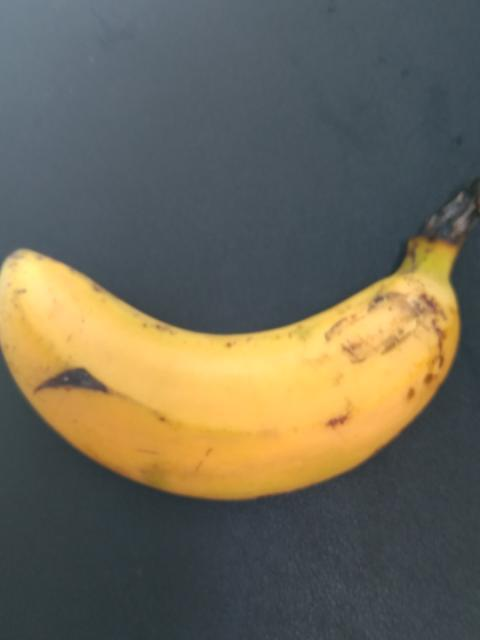ripe: (6, 216, 471, 522)
